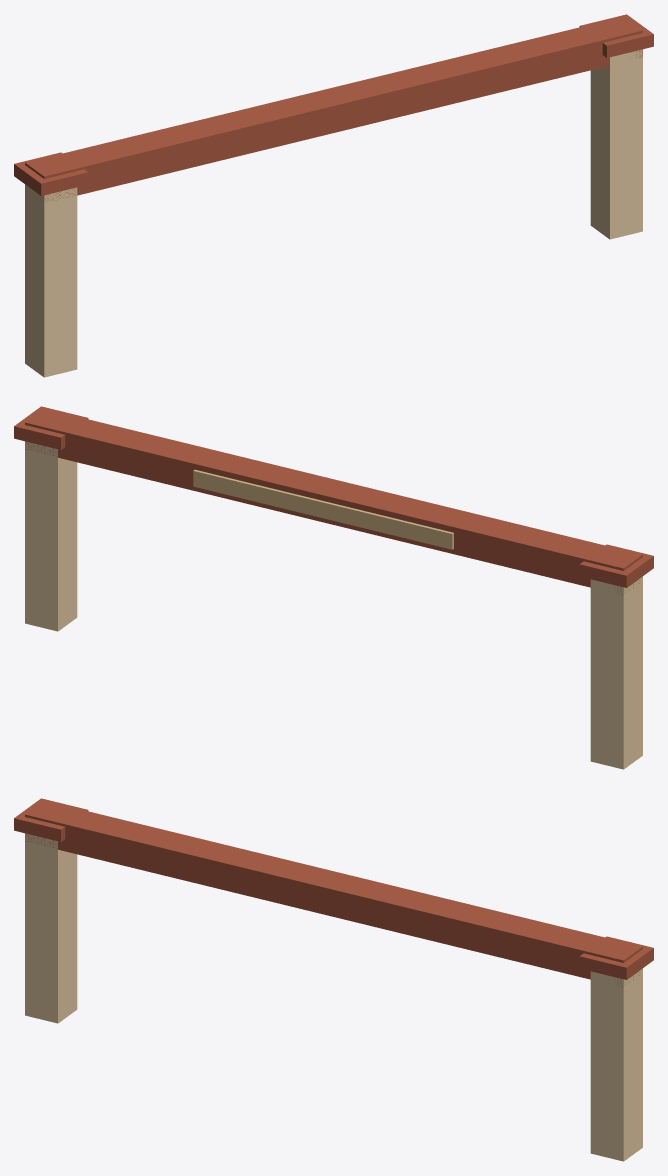
The model's file is school_gate.glb.
3 renders of one model, top to bottom at view 1: azimuth 30°, elevation 25°; view 2: azimuth 150°, elevation 25°; view 3: azimuth 330°, elevation 25°, orthographic.
Parts seen in each view (by area): view 1: _MeshInstance3D_427, _MeshInstance3D_419, _MeshInstance3D_423, _MeshInstance3D_422, _MeshInstance3D_426; view 2: _MeshInstance3D_427, _MeshInstance3D_419, _MeshInstance3D_423, _MeshInstance3D_428, _MeshInstance3D_422, _MeshInstance3D_426; view 3: _MeshInstance3D_427, _MeshInstance3D_423, _MeshInstance3D_419, _MeshInstance3D_426, _MeshInstance3D_422.
Part boxes in pixels (bbox=[...]): _MeshInstance3D_427: bbox=[25, 16, 642, 202]; _MeshInstance3D_419: bbox=[25, 184, 77, 377]; _MeshInstance3D_423: bbox=[590, 49, 642, 239]; _MeshInstance3D_422: bbox=[14, 152, 88, 195]; _MeshInstance3D_426: bbox=[579, 14, 653, 57]; _MeshInstance3D_427: bbox=[25, 408, 642, 595]; _MeshInstance3D_419: bbox=[590, 576, 642, 769]; _MeshInstance3D_423: bbox=[25, 441, 77, 631]; _MeshInstance3D_428: bbox=[193, 469, 453, 549]; _MeshInstance3D_422: bbox=[579, 544, 653, 587]; _MeshInstance3D_426: bbox=[14, 406, 88, 449]; _MeshInstance3D_427: bbox=[25, 800, 642, 987]; _MeshInstance3D_423: bbox=[590, 968, 642, 1161]; _MeshInstance3D_419: bbox=[25, 833, 77, 1023]; _MeshInstance3D_426: bbox=[579, 936, 653, 979]; _MeshInstance3D_422: bbox=[14, 798, 88, 841].
Bounding box in the file's own units: 13 × 4.07 × 1.
